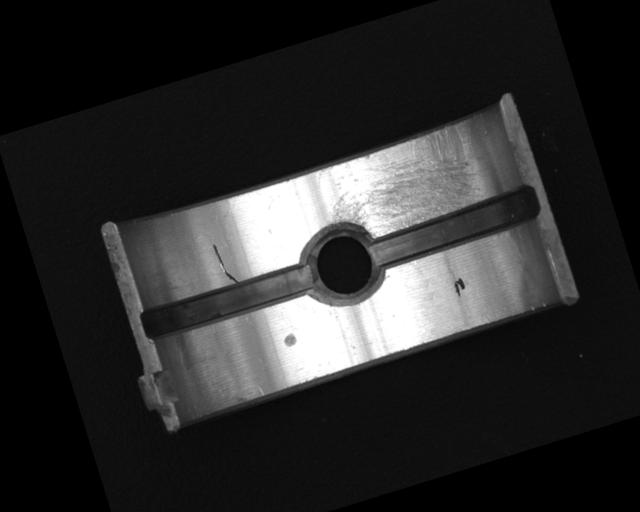blot: (451, 276, 468, 297)
bruise: (282, 332, 298, 349)
gap: (136, 257, 319, 345), (364, 184, 544, 272)
hole: (293, 212, 391, 315)
nick: (211, 240, 238, 289)
scratch: (312, 119, 492, 251)
